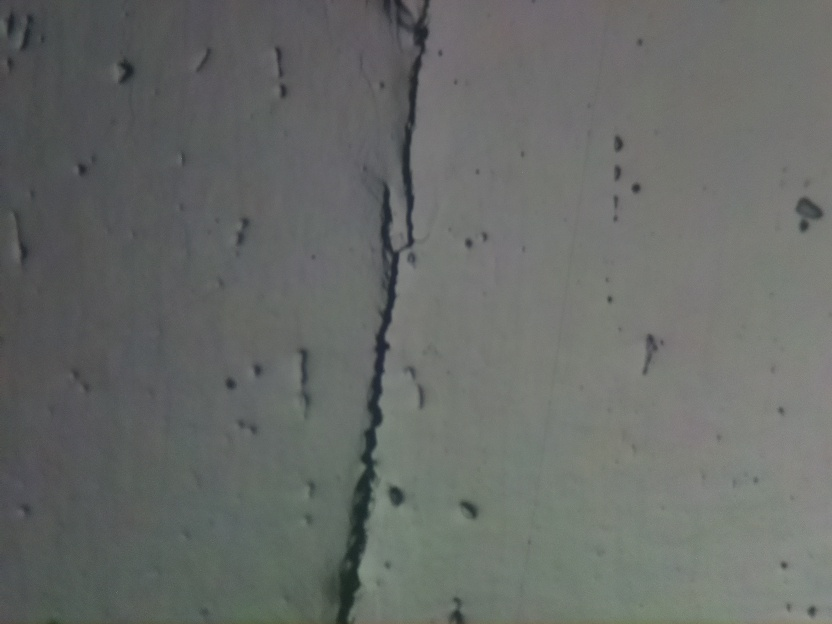crack: (335, 0, 429, 623)
